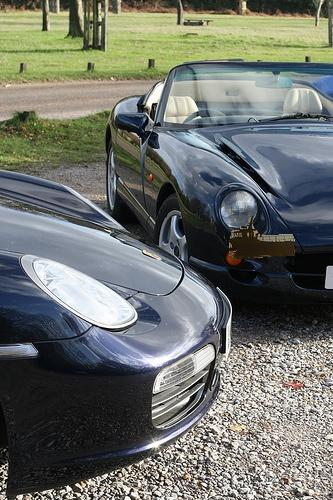tampered: (230, 217, 295, 259)
